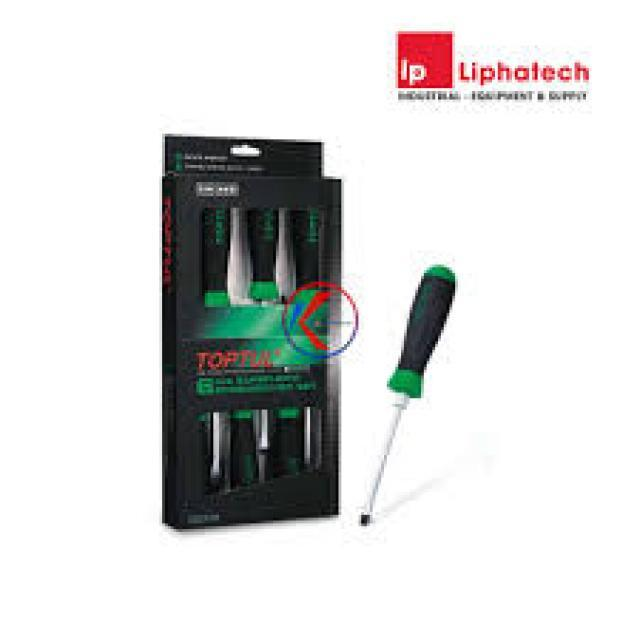screwdriver: (356, 258, 456, 536)
